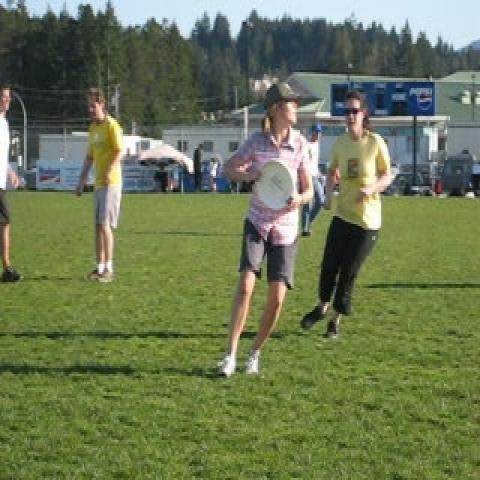car: (386, 171, 434, 196)
